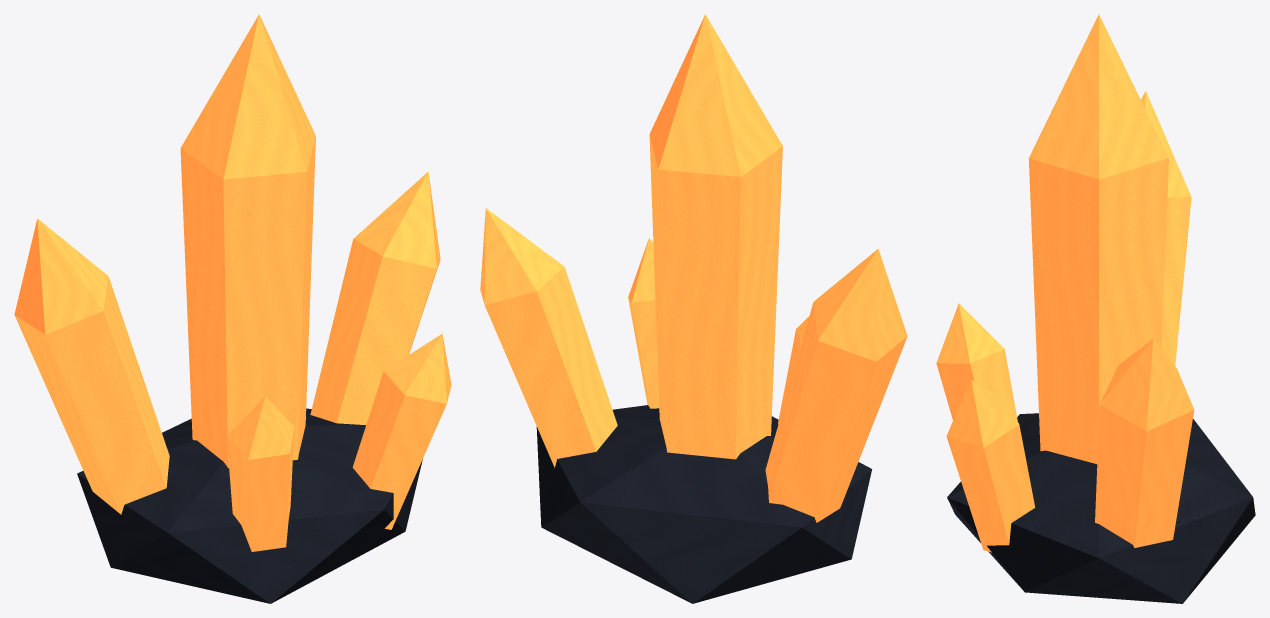
The model's file is CrystalCluster_Amber.fbx.
The picture shows the model from 3 angles, left to right: view 1: azimuth 30°, elevation 25°; view 2: azimuth 150°, elevation 25°; view 3: azimuth 270°, elevation 25°; orthographic projection. The views are drawn at different scales.
Parts seen in each view (by area): view 1: SM_CrystalCluster_Amber; view 2: SM_CrystalCluster_Amber; view 3: SM_CrystalCluster_Amber.
Part boxes in pixels (x1,y1,x2,y2): SM_CrystalCluster_Amber: [14, 14, 451, 603]; SM_CrystalCluster_Amber: [480, 14, 907, 603]; SM_CrystalCluster_Amber: [936, 14, 1255, 603].
Size of the model in its own units: 223 by 147 by 292.
1 material, 1 textured.
